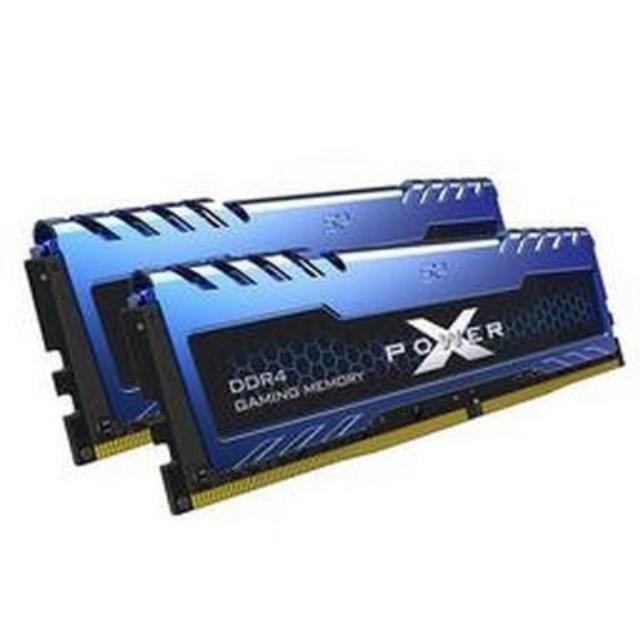RAM: (8, 157, 632, 526)
